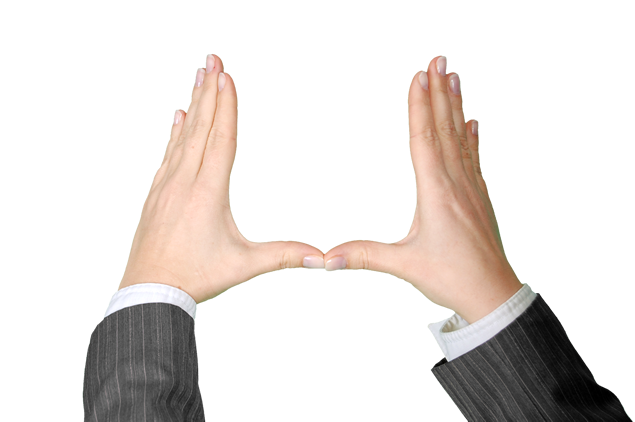no-phone: (116, 49, 325, 294), (325, 55, 509, 307)
